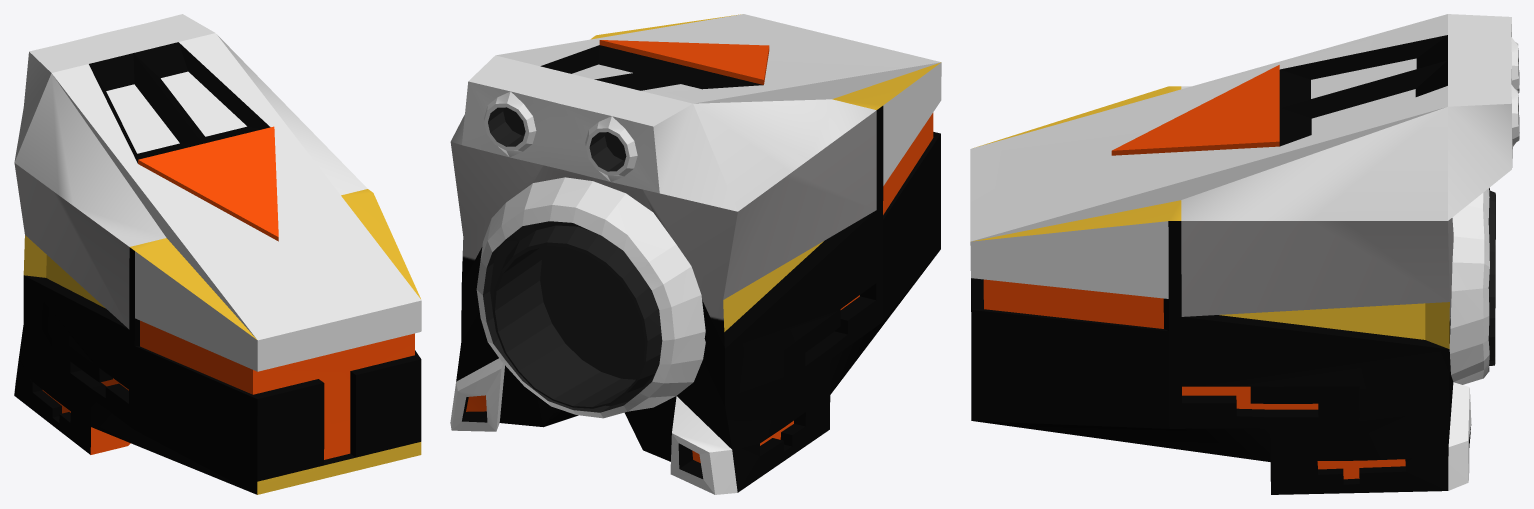
Rendered from Square.obj.
The picture shows the model from 3 angles, left to right: view 1: azimuth 30°, elevation 25°; view 2: azimuth 150°, elevation 25°; view 3: azimuth 270°, elevation 25°; orthographic projection. The views are drawn at different scales.
Parts seen in each view (by area): view 1: Square; view 2: Square; view 3: Square.
Part boxes in pixels (x1,y1,x2,y2): Square: [14, 14, 421, 494]; Square: [450, 14, 941, 494]; Square: [970, 14, 1519, 494].
Size of the model in its own units: 2.85 by 3.62 by 4.9.
Materials: 1 (1 with a texture image).
